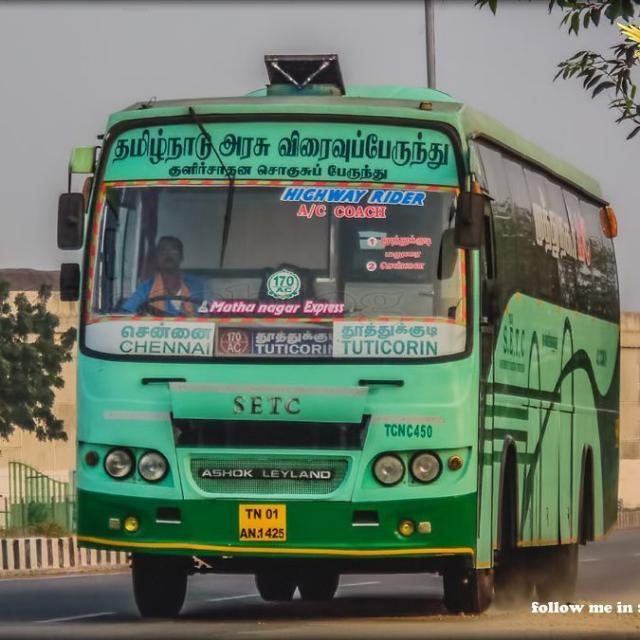Bus: (47, 49, 624, 614)
